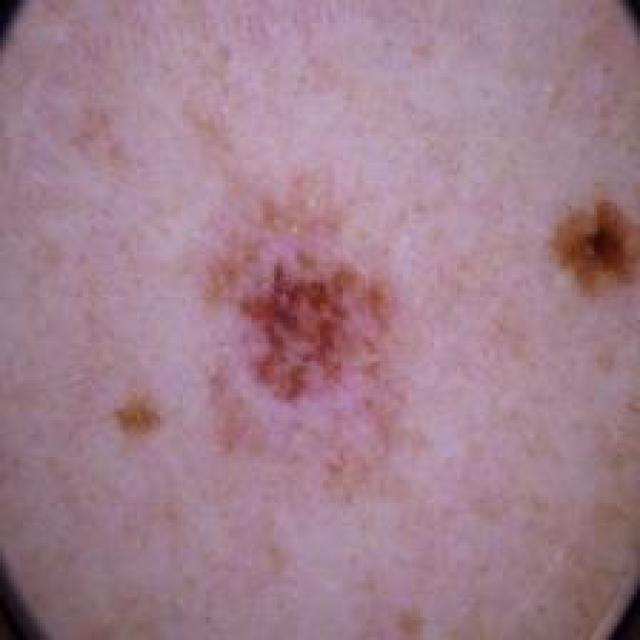Cancer: (130, 198, 640, 440)
